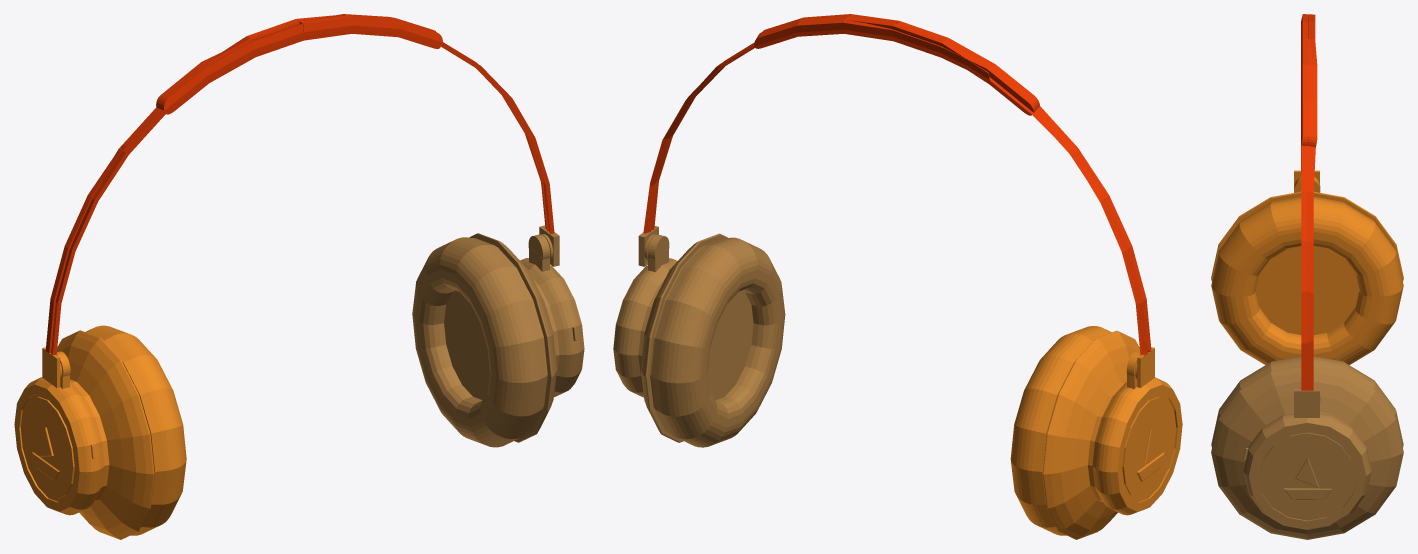
Rendered from headphoneanim.gltf.
The picture shows the model from 3 angles, left to right: view 1: azimuth 30°, elevation 25°; view 2: azimuth 150°, elevation 25°; view 3: azimuth 270°, elevation 25°; orthographic projection. The views are drawn at different scales.
Visible parts, largest first — view 1: Circle.003, Circle.001, Circle.002; view 2: Circle.003, Circle.001, Circle.002; view 3: Circle.003, Circle.001, Circle.002.
Part boxes in pixels (x1,y1,x2,y2): Circle.003: [412, 225, 584, 447]; Circle.001: [14, 325, 186, 539]; Circle.002: [45, 14, 554, 355]; Circle.003: [613, 226, 785, 447]; Circle.001: [1010, 326, 1182, 539]; Circle.002: [643, 14, 1151, 355]; Circle.003: [1211, 356, 1403, 539]; Circle.001: [1211, 170, 1403, 364]; Circle.002: [1301, 14, 1317, 390].
Bounding box in the file's own units: 5.83 × 5.06 × 2.13.
